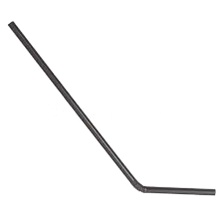drinking_straw: (3, 16, 220, 203)
